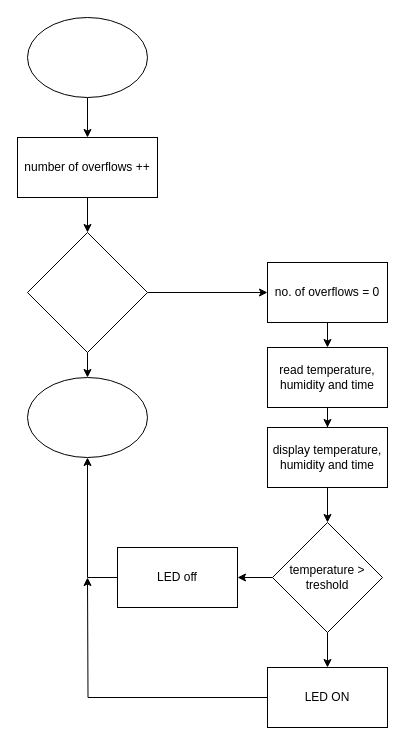
Image size: 405x745. Some labels were removed from this diagram. The shapes that lost their labels are listed below. From the top down, each one's centre as x and y in pixels, then its label:
(x=87, y=57): TIMER1_OVF_vect
(x=87, y=292): no. of overflows > 60
(x=87, y=417): end
